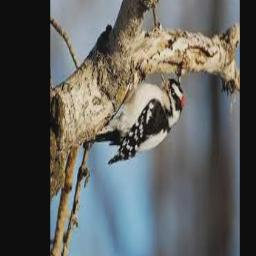Woodpecker: (83, 72, 183, 164)
